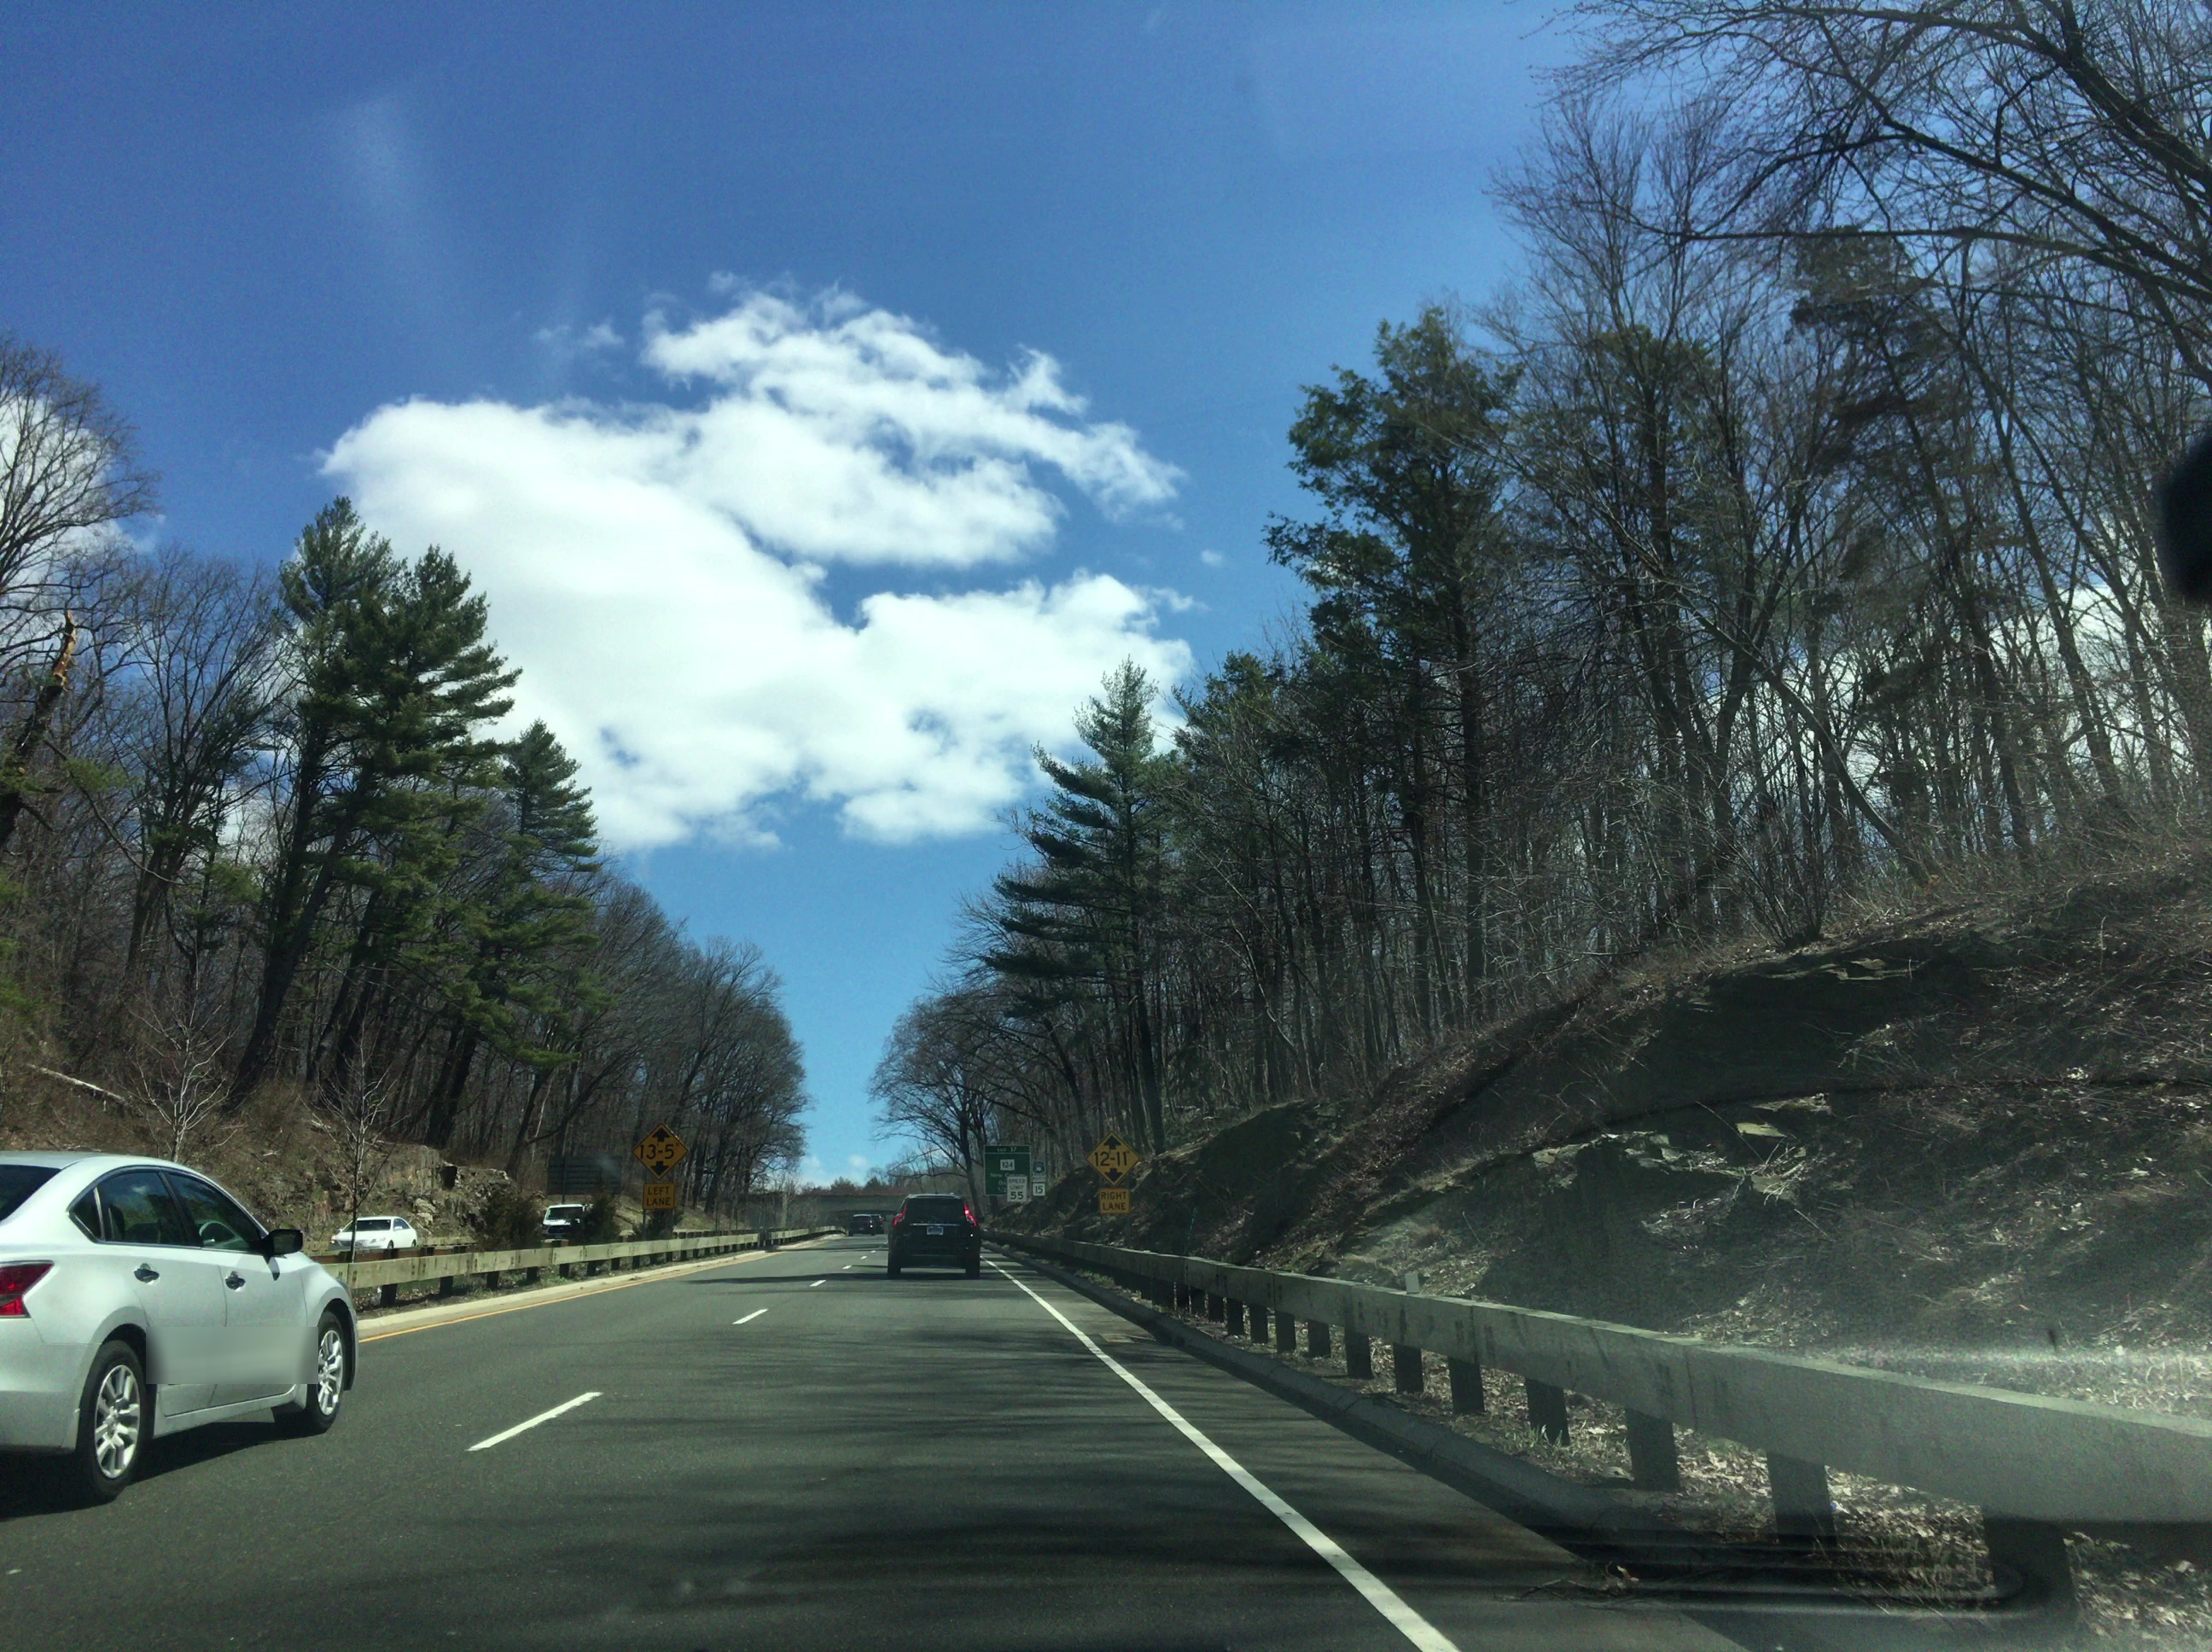low-clearance-sign: (632, 1123, 690, 1182), (1084, 1131, 1143, 1187)
